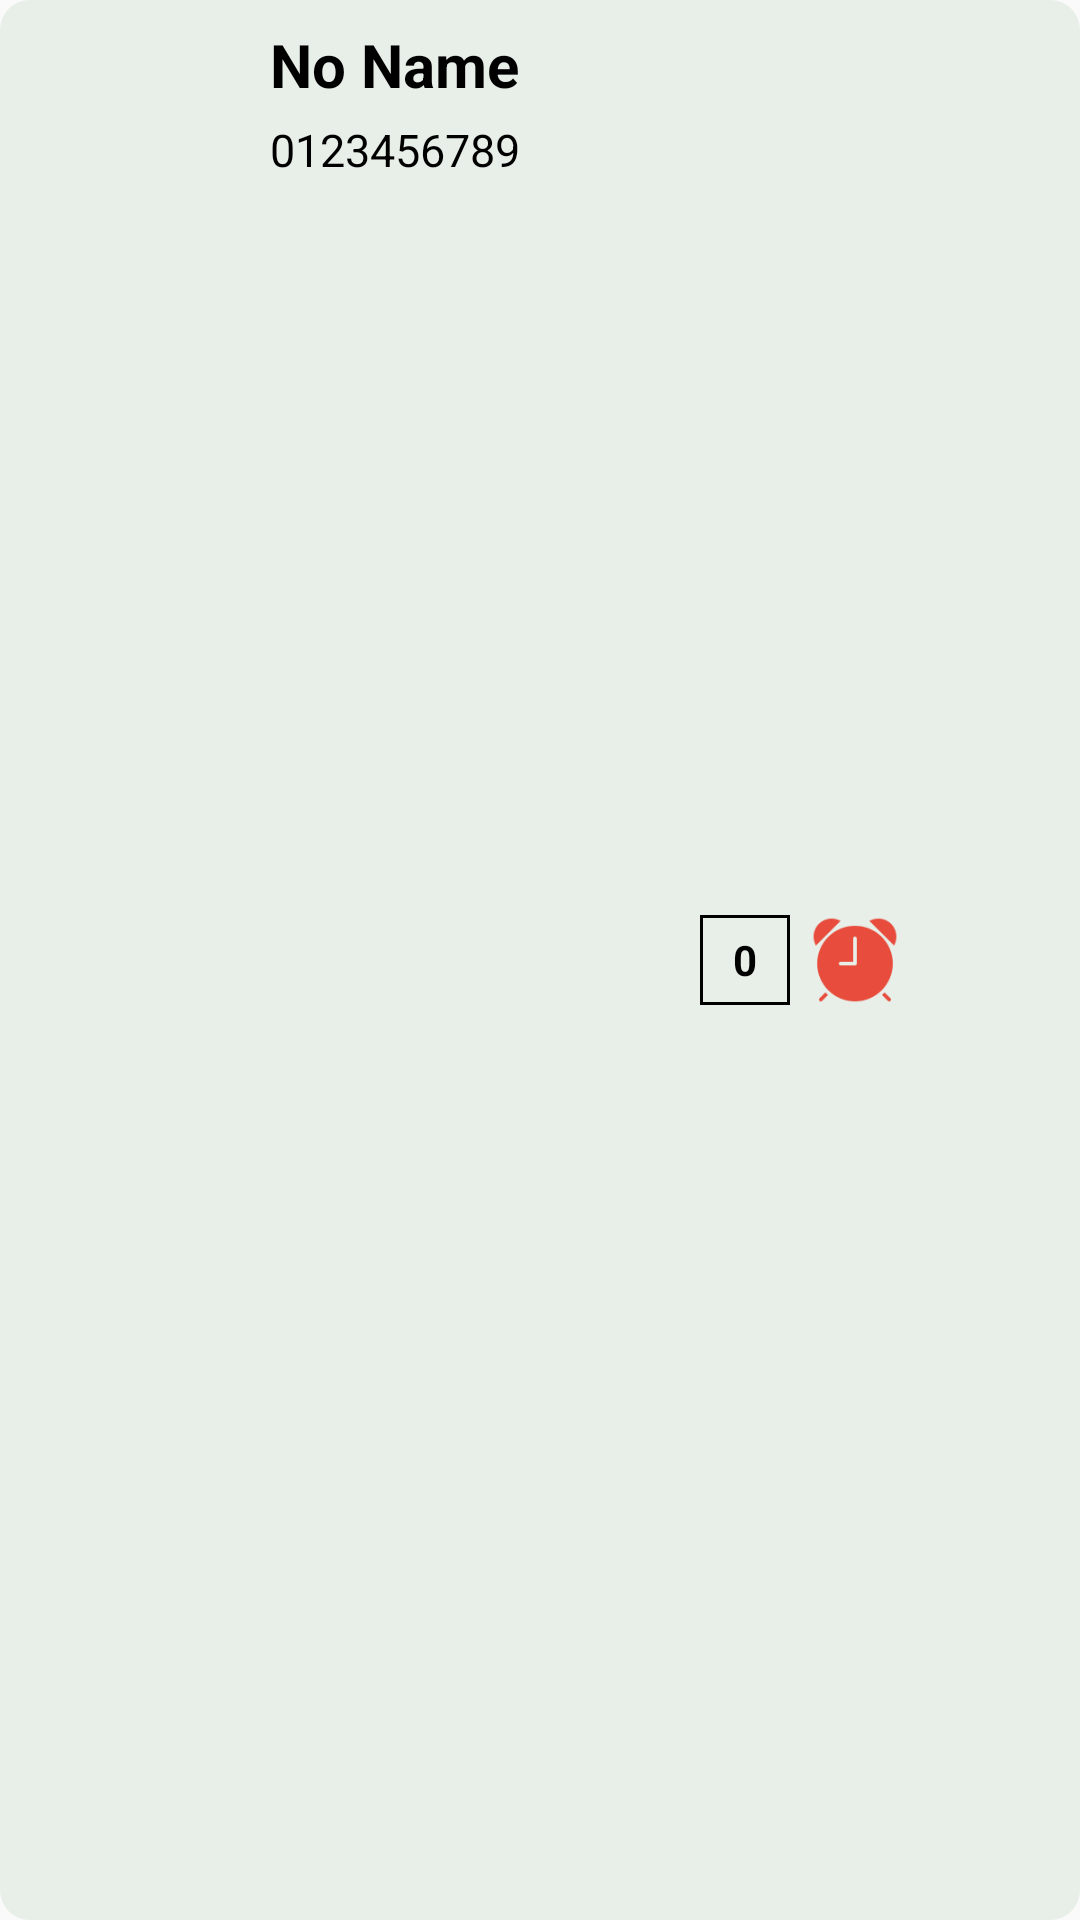

Locate icon controls on the screen. Image size 1080×1920, boxes as (x1, y1, x2, y2).
clock: (813, 918, 897, 1002)
